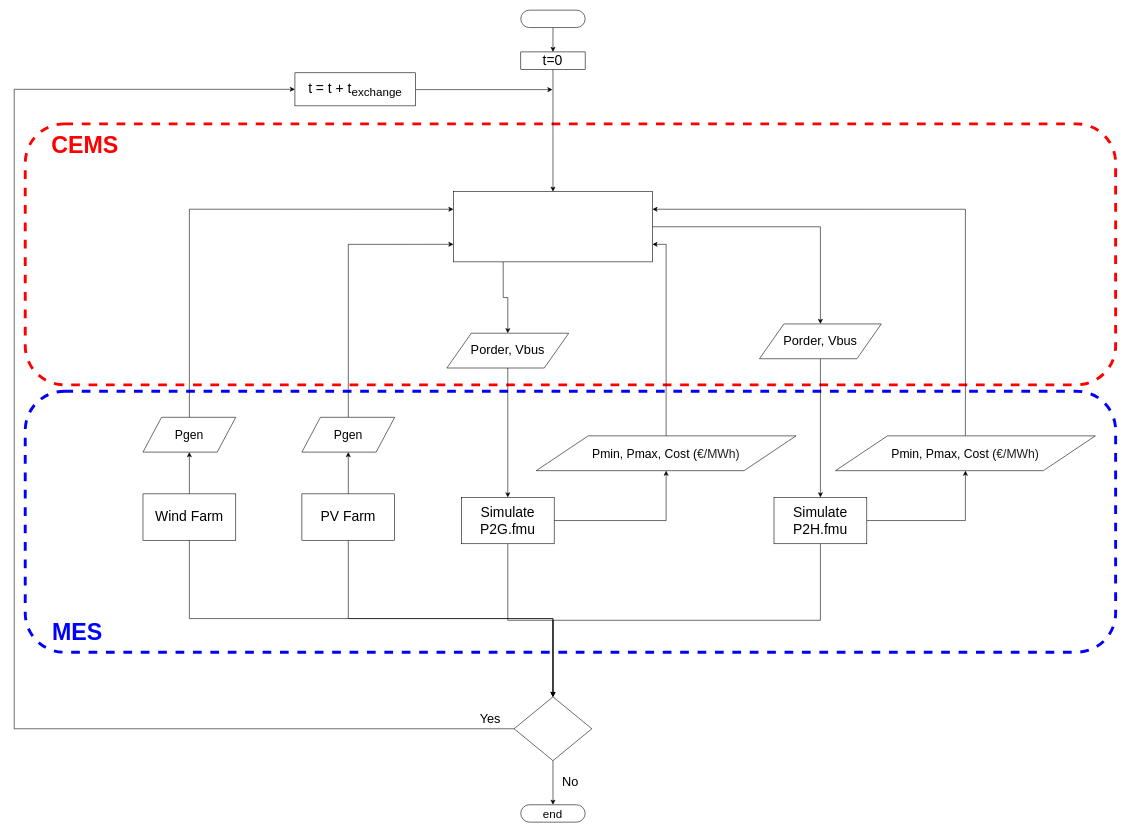
This 1127x832 diagram has some shape labels left out. Each missing label, with the centre of its shape:
"Run OPF (network.p)" goes at (552,226).
"start" goes at (552,19).
"t < t end" goes at (553,728).
